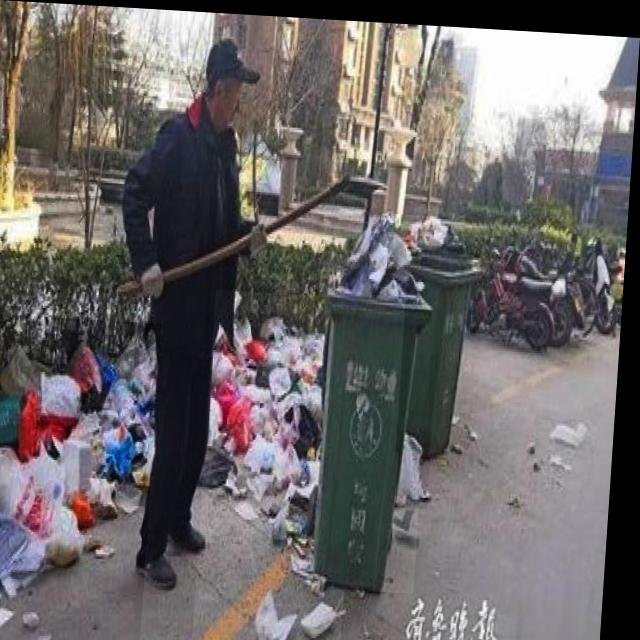garbage: (201, 287, 368, 640), (0, 313, 166, 640), (402, 425, 438, 504)
garbage_bin: (402, 244, 491, 451)
overflow: (308, 206, 442, 588)
